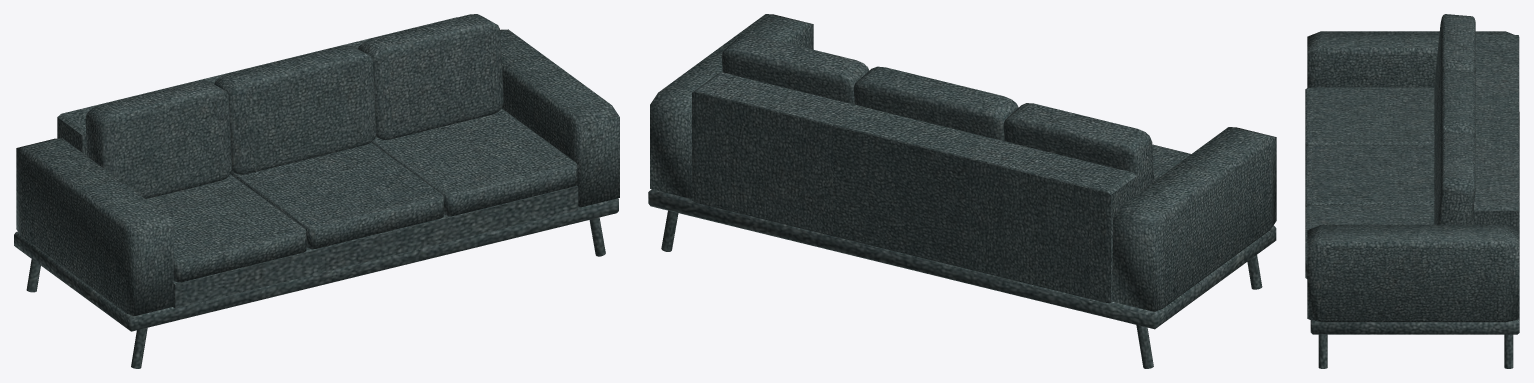
Rendered from aKoltuk.glb.
3 renders of one model, left to right at view 1: azimuth 30°, elevation 25°; view 2: azimuth 150°, elevation 25°; view 3: azimuth 270°, elevation 25°, orthographic. The views are drawn at different scales.
Parts seen in each view (by area): view 1: Cube.003_Cube.005, Cube, Cube.009_Cube.014, Cube.008_Cube.013, Cube.007_Cube.012, Cube.005_Cube.011, Cube.006_Cube.010, Cube.001, Cube.002_Cube.009, Cube.004, Cylinder; view 2: Cube.004, Cube.003_Cube.005, Cube, Cube.001, Cube.009_Cube.014, Cube.007_Cube.012, Cube.008_Cube.013, Cylinder, Cube.002_Cube.009; view 3: Cube.001, Cube.004, Cube.005_Cube.011, Cube.003_Cube.005, Cube.002_Cube.009, Cube.008_Cube.013, Cube, Cube.006_Cube.010, Cube.009_Cube.014, Cube.007_Cube.012, Cylinder.001.
Boxes of the visible parts, x1,y1,x2,y2 form: Cube.003_Cube.005: (16, 138, 173, 316); Cube: (14, 185, 618, 331); Cube.009_Cube.014: (214, 45, 376, 174); Cube.008_Cube.013: (358, 14, 503, 140); Cube.007_Cube.012: (85, 80, 232, 198); Cube.005_Cube.011: (231, 142, 443, 248); Cube.006_Cube.010: (371, 108, 577, 216); Cube.001: (500, 29, 619, 207); Cube.002_Cube.009: (146, 174, 306, 282); Cube.004: (57, 17, 456, 155); Cylinder: (26, 259, 147, 368); Cube.004: (692, 72, 1136, 302); Cube.003_Cube.005: (1113, 127, 1276, 311); Cube: (648, 189, 1276, 329); Cube.001: (650, 14, 813, 198); Cube.009_Cube.014: (853, 66, 1018, 140); Cube.007_Cube.012: (1003, 103, 1154, 193); Cube.008_Cube.013: (721, 34, 869, 104); Cylinder: (1136, 255, 1262, 368); Cube.002_Cube.009: (1152, 144, 1190, 180); Cube.001: (1307, 224, 1519, 322); Cube.004: (1473, 35, 1518, 229); Cube.005_Cube.011: (1305, 145, 1473, 218); Cube.003_Cube.005: (1307, 31, 1519, 124); Cube.002_Cube.009: (1305, 87, 1434, 146); Cube.008_Cube.013: (1434, 132, 1475, 224); Cube: (1310, 112, 1519, 334); Cube.006_Cube.010: (1305, 205, 1473, 278); Cube.009_Cube.014: (1434, 70, 1475, 197); Cube.007_Cube.012: (1434, 14, 1475, 135); Cylinder.001: (1318, 334, 1513, 368).
Size of the model in its own units: 2 by 0.7519 by 0.8519.
2 materials, 2 textured.
